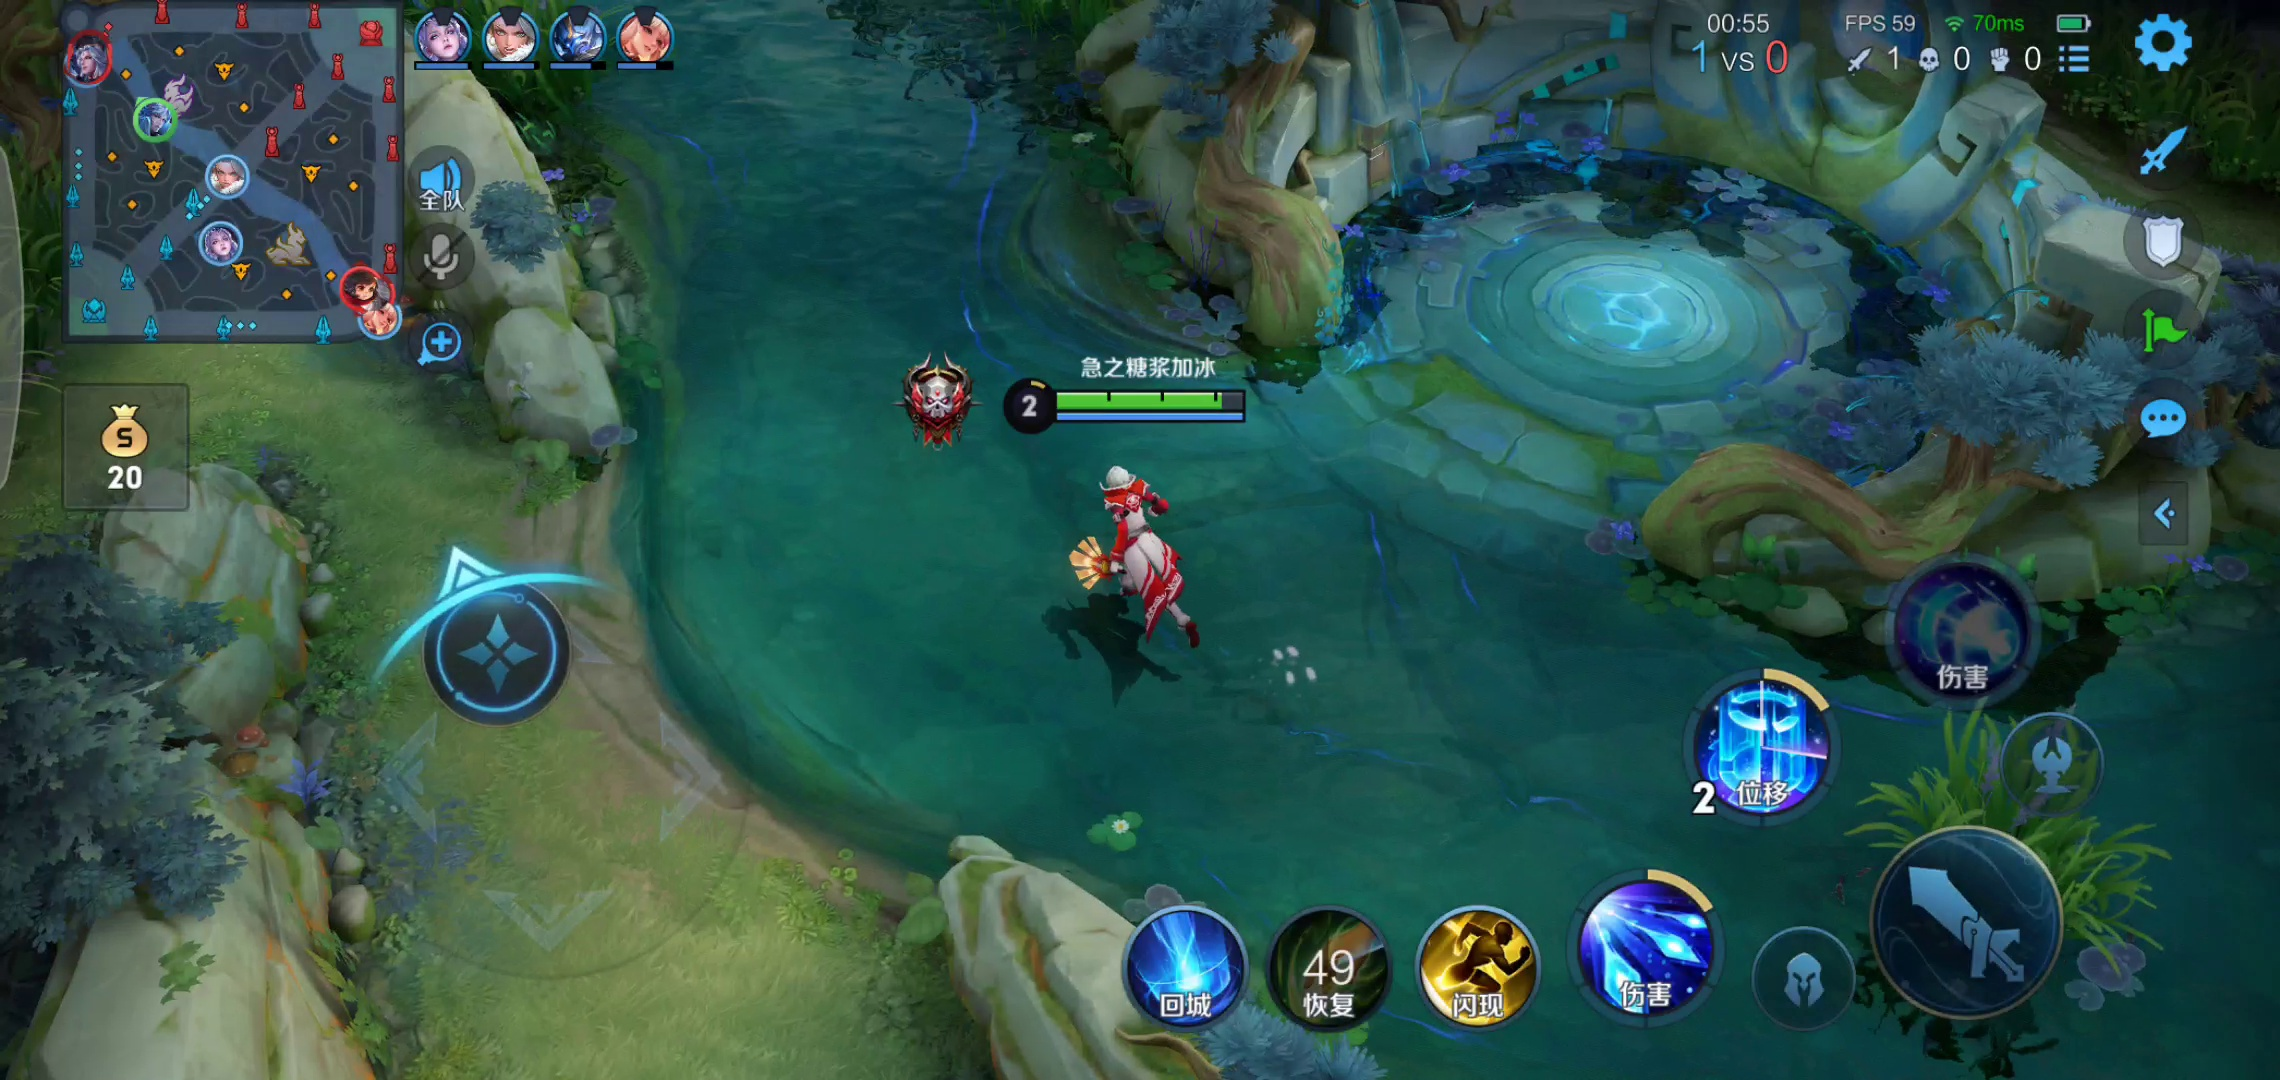grass: (1871, 698, 2156, 964), (449, 1, 609, 148), (6, 138, 95, 381)
hero: (1048, 456, 1227, 656)
